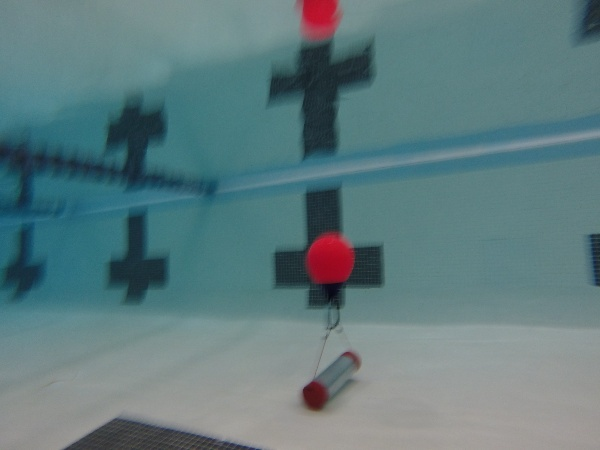buoy_red: (304, 231, 355, 303)
